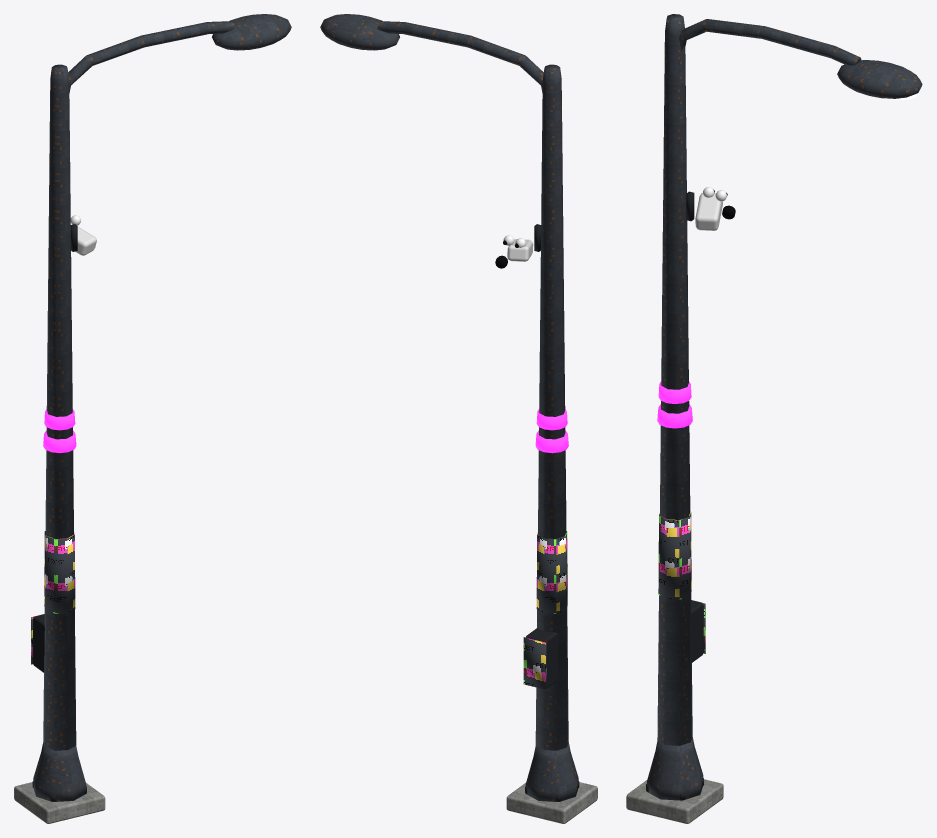
The model's file is p_streetlight.glb.
3 renders of one model, left to right at view 1: azimuth 30°, elevation 25°; view 2: azimuth 150°, elevation 25°; view 3: azimuth 330°, elevation 25°, orthographic. The views are drawn at different scales.
Parts seen in each view (by area): view 1: streetlight; view 2: streetlight; view 3: streetlight.
Boxes of the visible parts, x1,y1,x2,y2 form: streetlight: (14,14,291,823); streetlight: (320,14,597,823); streetlight: (626,14,922,823).
Bounding box in the file's own units: 2.19 × 6.04 × 0.5582.
Materials: 10 (3 with a texture image).
